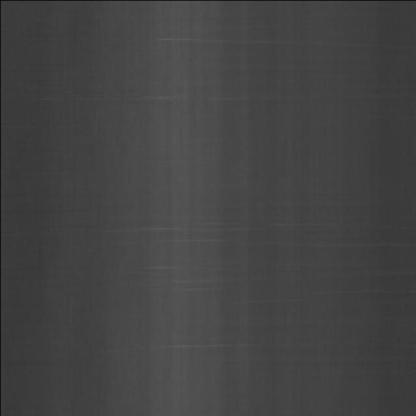waist_folding: (128, 100, 266, 371)
